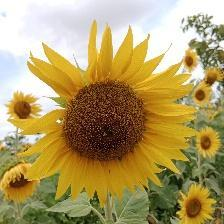sunflower: (32, 43, 178, 194)
